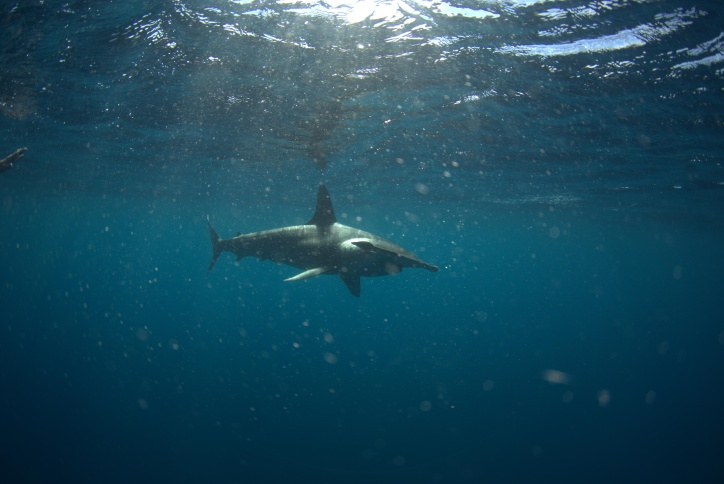Hammer: (194, 174, 438, 300)
